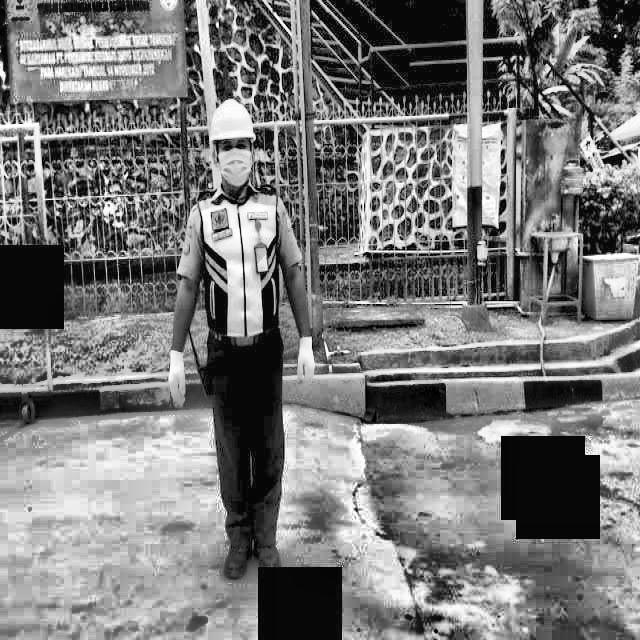safety_helmet: (209, 91, 264, 147)
safety_jacket: (200, 184, 290, 341)
